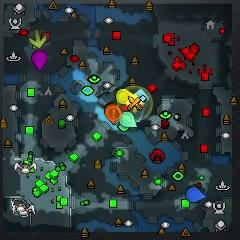Other: (127, 93, 143, 113), (106, 106, 121, 122)
p1: (185, 187, 205, 203)
p2: (119, 111, 137, 128)
p3: (31, 50, 48, 70)
p4: (116, 88, 133, 104)
p5: (105, 102, 120, 125)
x2: (29, 29, 47, 48)
x3: (134, 88, 149, 102)
